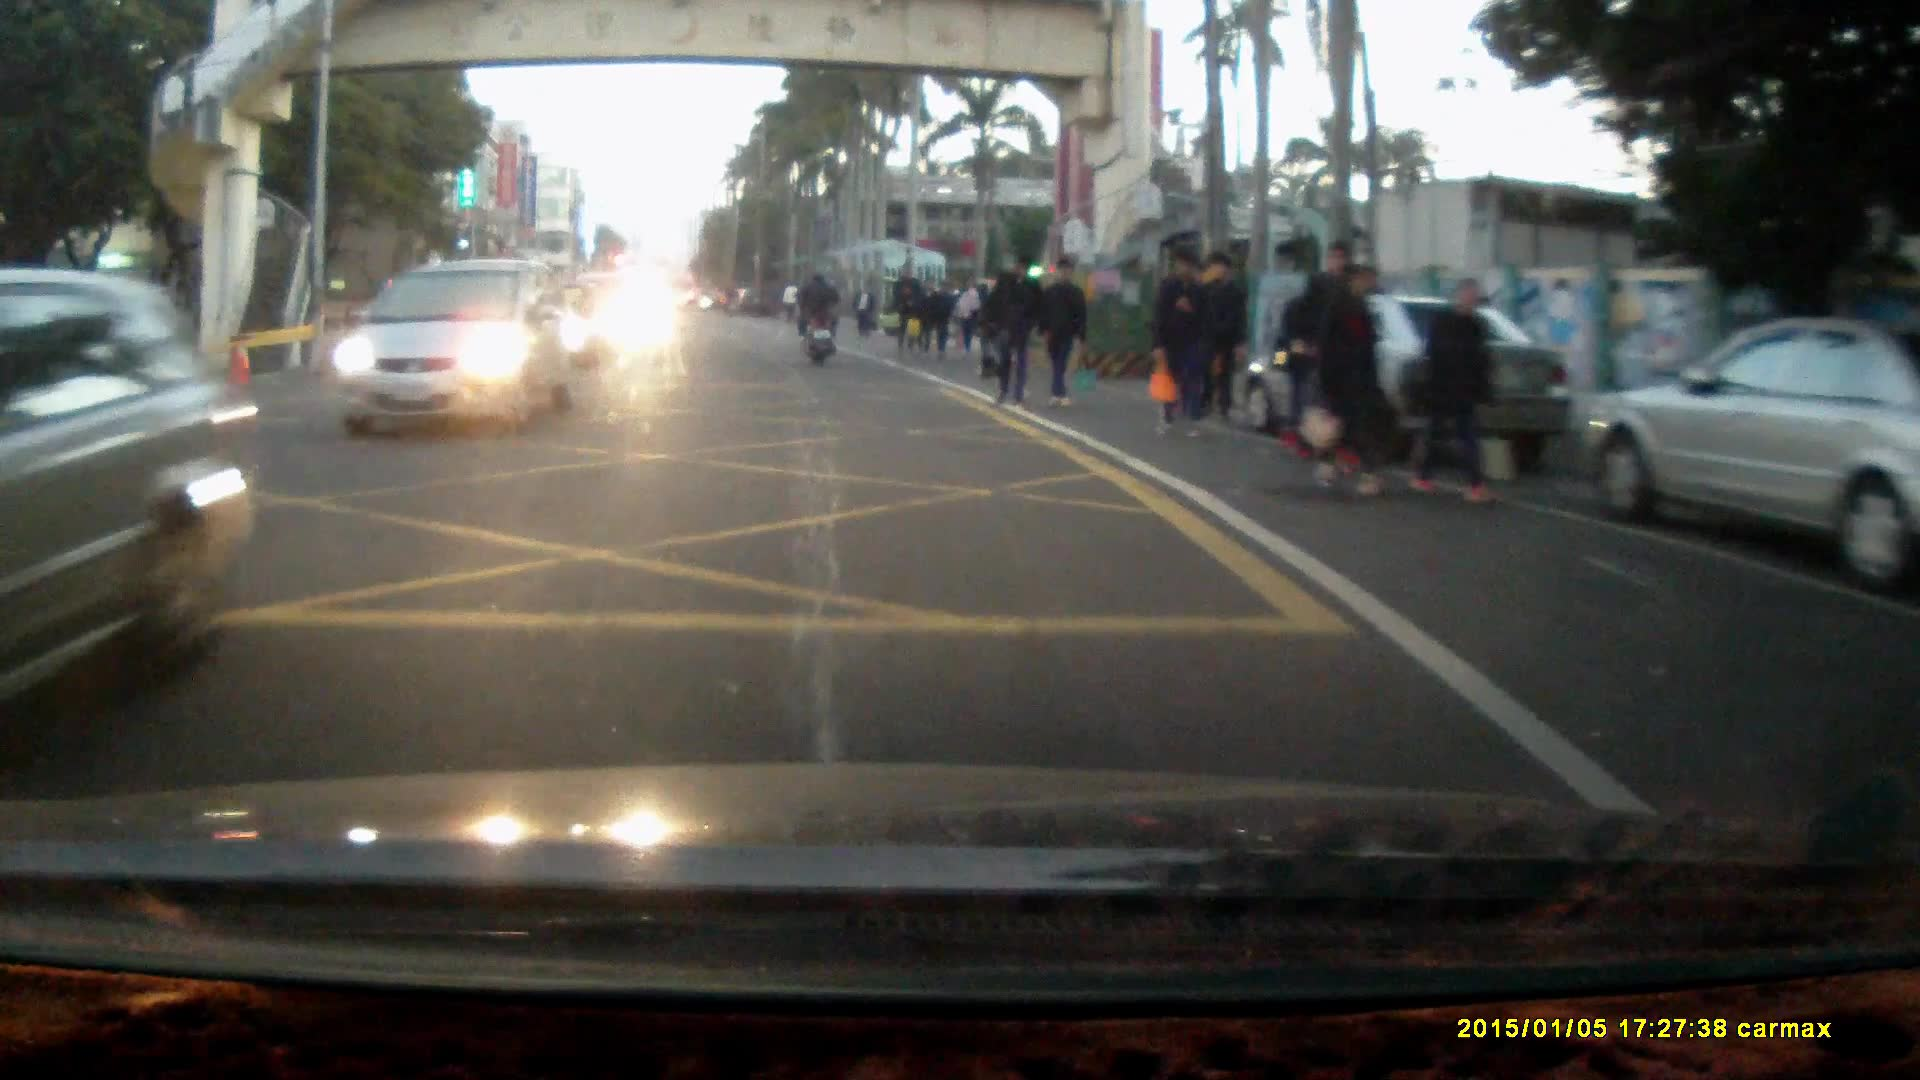pedestrian: (1411, 271, 1500, 507), (1311, 259, 1385, 499), (1288, 238, 1354, 462), (1148, 248, 1209, 437), (991, 256, 1050, 414), (1035, 252, 1090, 410), (1200, 251, 1249, 428), (888, 263, 920, 358), (953, 274, 984, 360), (911, 270, 937, 357), (852, 279, 876, 342)
rider: (796, 267, 840, 366)
vehicle: (1, 271, 262, 708), (1569, 319, 1920, 598), (1245, 298, 1574, 461), (328, 256, 581, 444)
